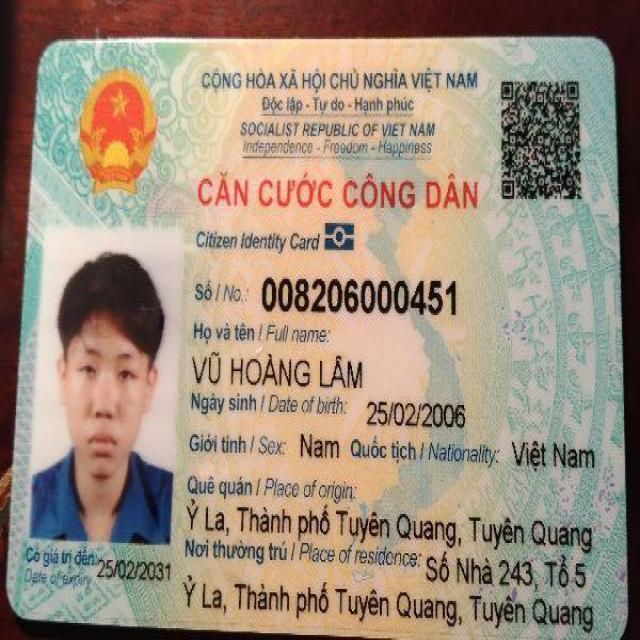current_place: (180, 568, 598, 634), (421, 547, 591, 593)
dob: (364, 392, 470, 438)
expire_date: (96, 552, 174, 585)
gender: (295, 426, 343, 466)
id: (259, 266, 463, 328)
name: (191, 346, 368, 389)
nationality: (509, 427, 602, 485)
origin_place: (184, 498, 604, 554)
qr: (499, 75, 582, 204)
